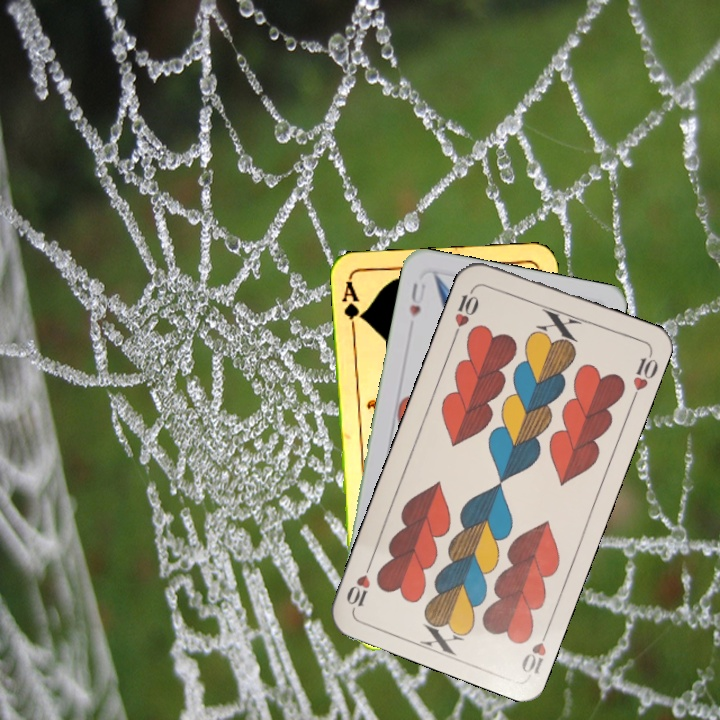GA: (338, 277, 366, 335)
H10: (517, 621, 553, 678), (450, 282, 482, 339)
HU: (405, 279, 428, 321)
